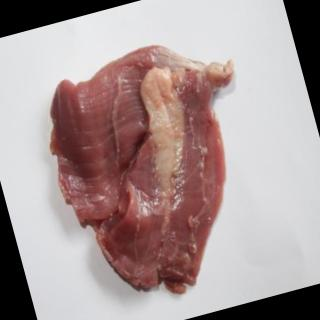Daging Sapi: (33, 25, 290, 319)
